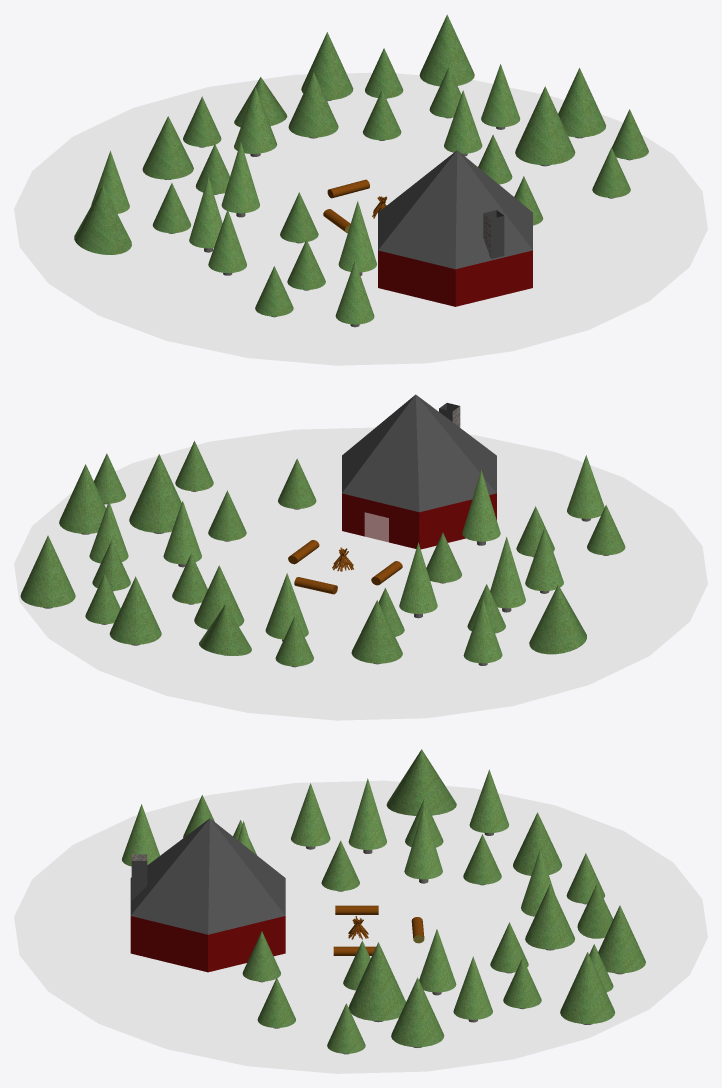
The model's file is ready_worldFINAL.obj.
3 views of the same model, one above another, from view 1: azimuth 30°, elevation 25°; view 2: azimuth 150°, elevation 25°; view 3: azimuth 270°, elevation 25° (orthographic).
Visible parts, largest first — view 1: ready_world-SKP-Default_Material, ready_world-COM-house-56884-Material6, ready_world-COM-house-56884-Material5, ready_world-COM-puu1-56920-Vegetation_Grass_Artificial, ready_world-COM-puu1-56915-Vegetation_Grass_Artificial, ready_world-COM-puu1-56919-Vegetation_Grass_Artificial, ready_world-COM-puu1-56895-Vegetation_Grass_Artificial, ready_world-COM-puu1-56902-Vegetation_Grass_Artificial, ready_world-COM-puu1-56905-Vegetation_Grass_Artificial, ready_world-COM-puu1-56918-Vegetation_Grass_Artificial, ready_world-COM-puu1-56894-Vegetation_Grass_Artificial, ready_world-COM-puu1-56893-Vegetation_Grass_Artificial (+21 smaller); view 2: ready_world-SKP-Default_Material, ready_world-COM-house-56884-Material6, ready_world-COM-house-56884-Material5, ready_world-COM-puu1-56920-Vegetation_Grass_Artificial, ready_world-COM-puu1-56915-Vegetation_Grass_Artificial, ready_world-COM-puu1-56919-Vegetation_Grass_Artificial, ready_world-COM-puu1-56918-Vegetation_Grass_Artificial, ready_world-COM-puu1-56895-Vegetation_Grass_Artificial, ready_world-COM-puu1-56905-Vegetation_Grass_Artificial, ready_world-COM-puu1-56917-Vegetation_Grass_Artificial, ready_world-COM-puu1-56906-Vegetation_Grass_Artificial, ready_world-COM-puu1-56893-Vegetation_Grass_Artificial (+23 smaller); view 3: ready_world-SKP-Default_Material, ready_world-COM-house-56884-Material6, ready_world-COM-house-56884-Material5, ready_world-COM-puu1-56920-Vegetation_Grass_Artificial, ready_world-COM-puu1-56915-Vegetation_Grass_Artificial, ready_world-COM-puu1-56919-Vegetation_Grass_Artificial, ready_world-COM-puu1-56895-Vegetation_Grass_Artificial, ready_world-COM-puu1-56918-Vegetation_Grass_Artificial, ready_world-COM-puu1-56902-Vegetation_Grass_Artificial, ready_world-COM-puu1-56905-Vegetation_Grass_Artificial, ready_world-COM-puu1-56893-Vegetation_Grass_Artificial, ready_world-COM-puu1-56913-Vegetation_Grass_Artificial (+17 smaller).
Part boxes in pixels (<box>): ready_world-SKP-Default_Material: <box>14,72,707,365</box>; ready_world-COM-house-56884-Material6: <box>378,150,532,269</box>; ready_world-COM-house-56884-Material5: <box>378,250,532,306</box>; ready_world-COM-puu1-56920-Vegetation_Grass_Artificial: <box>515,86,575,165</box>; ready_world-COM-puu1-56915-Vegetation_Grass_Artificial: <box>74,185,131,254</box>; ready_world-COM-puu1-56919-Vegetation_Grass_Artificial: <box>419,14,474,86</box>; ready_world-COM-puu1-56895-Vegetation_Grass_Artificial: <box>558,68,605,137</box>; ready_world-COM-puu1-56902-Vegetation_Grass_Artificial: <box>288,72,338,137</box>; ready_world-COM-puu1-56905-Vegetation_Grass_Artificial: <box>142,116,193,179</box>; ready_world-COM-puu1-56918-Vegetation_Grass_Artificial: <box>301,32,353,100</box>; ready_world-COM-puu1-56894-Vegetation_Grass_Artificial: <box>234,87,277,153</box>; ready_world-COM-puu1-56893-Vegetation_Grass_Artificial: <box>221,141,259,213</box>; ready_world-SKP-Default_Material: <box>14,427,707,720</box>; ready_world-COM-house-56884-Material6: <box>342,394,496,512</box>; ready_world-COM-house-56884-Material5: <box>342,493,496,549</box>; ready_world-COM-puu1-56920-Vegetation_Grass_Artificial: <box>129,454,181,532</box>; ready_world-COM-puu1-56915-Vegetation_Grass_Artificial: <box>529,585,586,654</box>; ready_world-COM-puu1-56919-Vegetation_Grass_Artificial: <box>20,535,75,607</box>; ready_world-COM-puu1-56918-Vegetation_Grass_Artificial: <box>109,576,161,644</box>; ready_world-COM-puu1-56895-Vegetation_Grass_Artificial: <box>59,464,105,533</box>; ready_world-COM-puu1-56905-Vegetation_Grass_Artificial: <box>351,600,402,663</box>; ready_world-COM-puu1-56917-Vegetation_Grass_Artificial: <box>199,604,251,655</box>; ready_world-COM-puu1-56906-Vegetation_Grass_Artificial: <box>462,470,500,541</box>; ready_world-COM-puu1-56893-Vegetation_Grass_Artificial: <box>399,542,437,613</box>; ready_world-SKP-Default_Material: <box>14,780,707,1073</box>; ready_world-COM-house-56884-Material6: <box>130,818,285,934</box>; ready_world-COM-house-56884-Material5: <box>130,916,285,972</box>; ready_world-COM-puu1-56920-Vegetation_Grass_Artificial: <box>348,942,405,1020</box>; ready_world-COM-puu1-56915-Vegetation_Grass_Artificial: <box>386,749,456,815</box>; ready_world-COM-puu1-56919-Vegetation_Grass_Artificial: <box>560,952,615,1024</box>; ready_world-COM-puu1-56895-Vegetation_Grass_Artificial: <box>391,977,444,1047</box>; ready_world-COM-puu1-56918-Vegetation_Grass_Artificial: <box>598,905,645,973</box>; ready_world-COM-puu1-56902-Vegetation_Grass_Artificial: <box>525,884,574,949</box>; ready_world-COM-puu1-56905-Vegetation_Grass_Artificial: <box>513,812,561,875</box>; ready_world-COM-puu1-56893-Vegetation_Grass_Artificial: <box>404,808,442,879</box>; ready_world-COM-puu1-56913-Vegetation_Grass_Artificial: <box>348,778,386,849</box>.
Size of the model in its own units: 58.89 by 11.35 by 58.89.
Materials: 12 (4 with a texture image).
